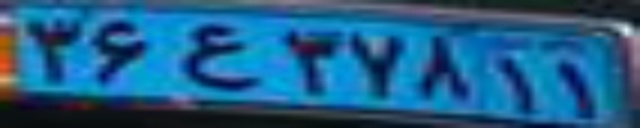1: (554, 61, 601, 120), (499, 58, 538, 115)
3: (278, 28, 339, 97), (30, 17, 83, 85)
6: (90, 21, 148, 84)
7: (350, 32, 410, 99)
8: (414, 36, 478, 102)
ain: (182, 24, 259, 91)
